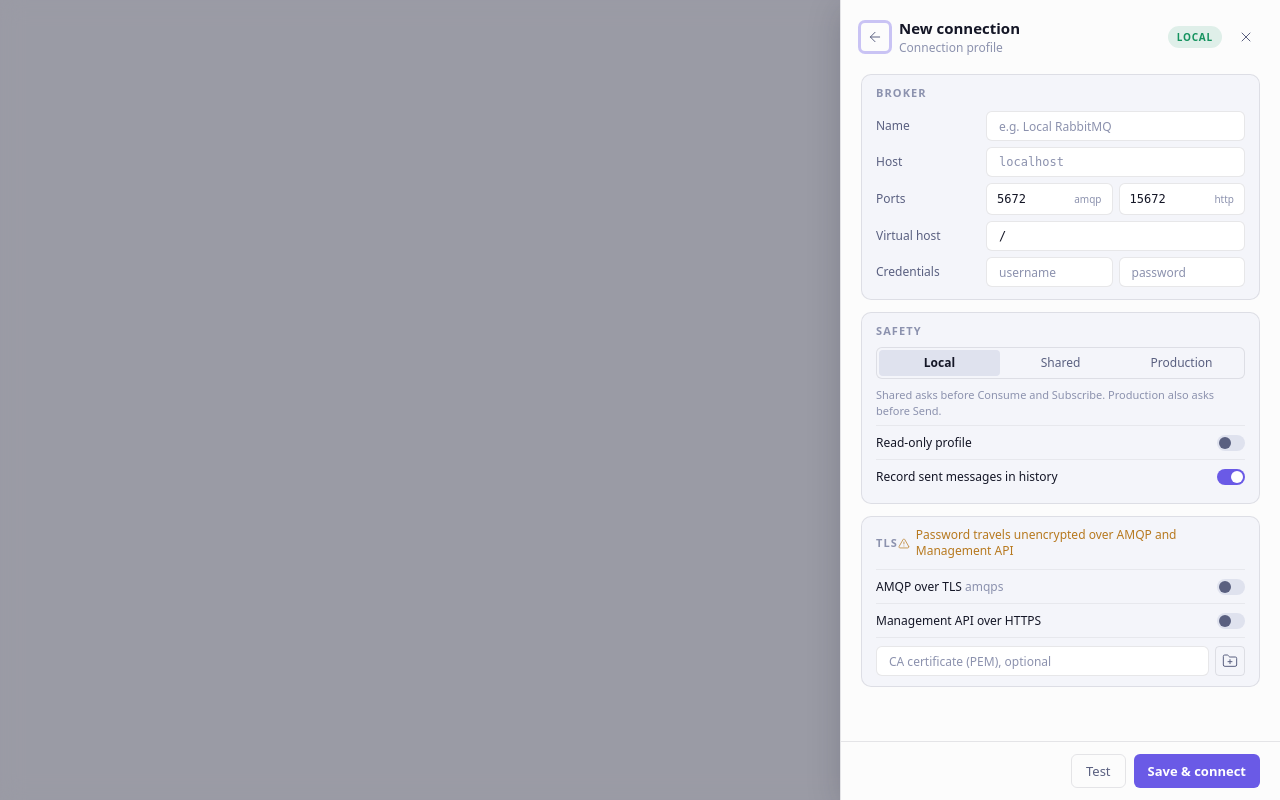
Scenario: ConnectionSheet › detail view — new profile › requires a name and a host
The image size is (1280, 800).
Click the button "Test". click: x=1098, y=771
box: [1071,754,1126,788]
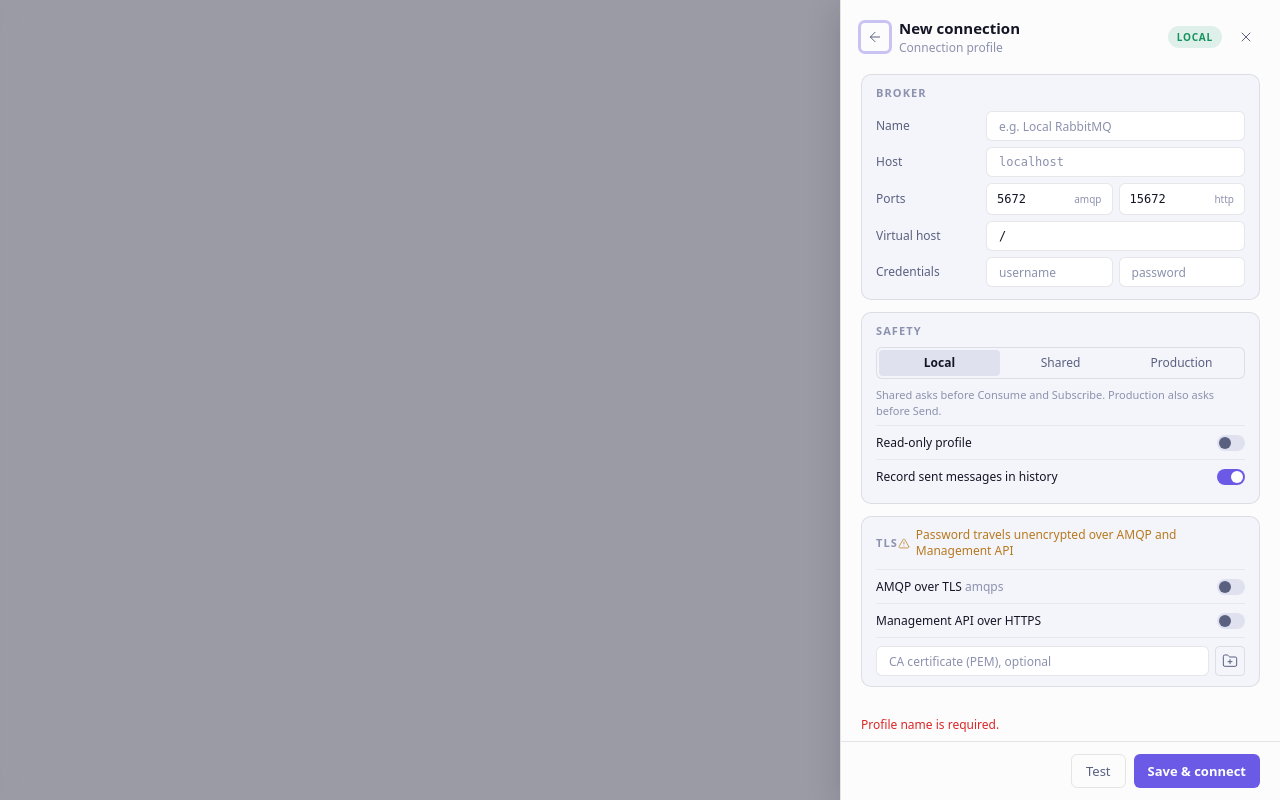
Check: the text "Profile name is required." is shown, box [861,716,999,733]
Type "MyProfile" into the field with placeholder "e.g. Local RabbitMQ". click: x=1116, y=126
box: [986,111,1245,141]
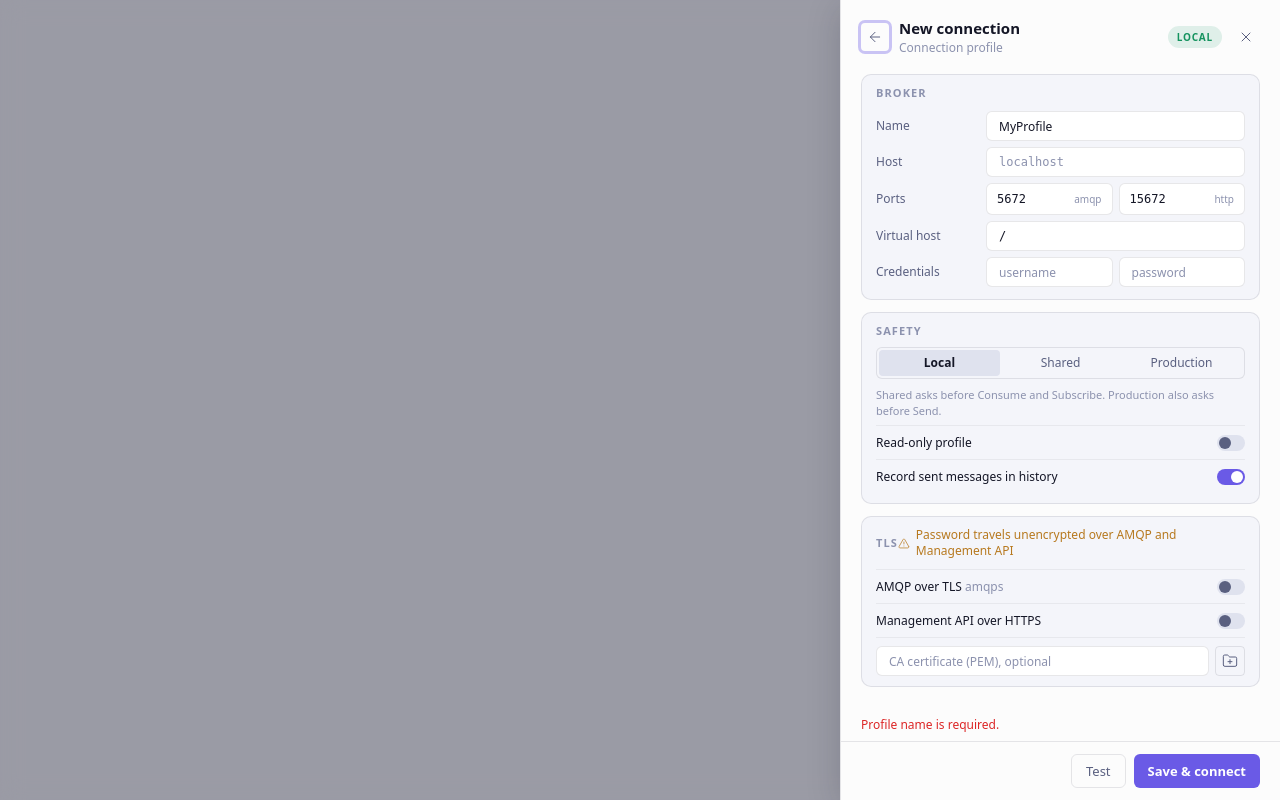
Click the button "Test". click: x=1098, y=771
box: [1071,754,1126,788]
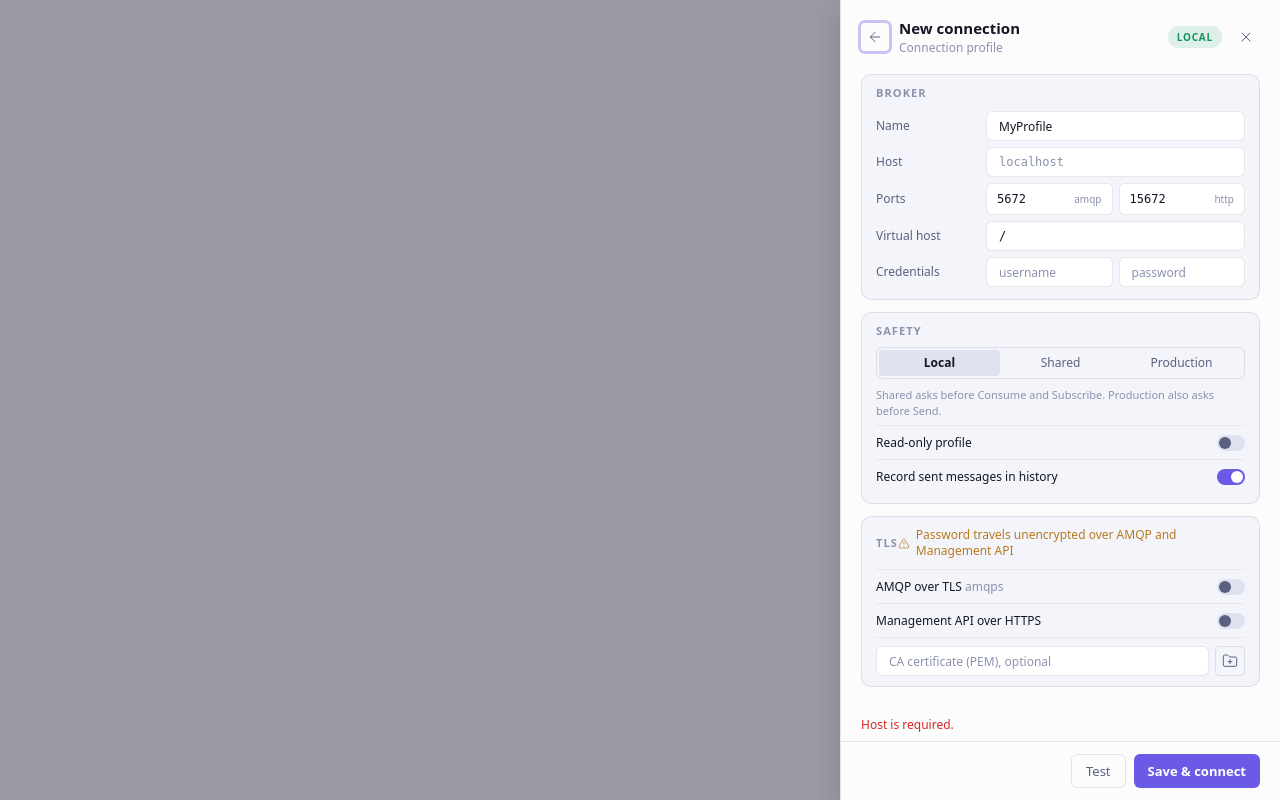
Check: the text "Host is required." is shown, box [861,716,954,733]
